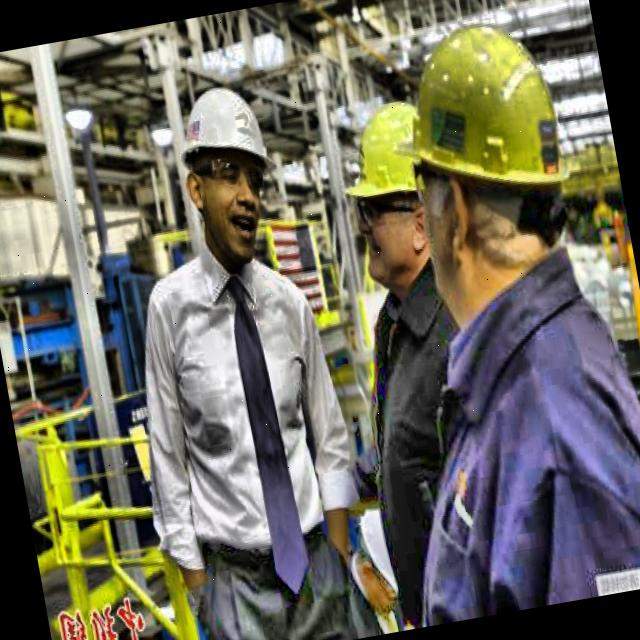helmet: (358, 0, 603, 322), (323, 66, 477, 297), (154, 60, 300, 260)
